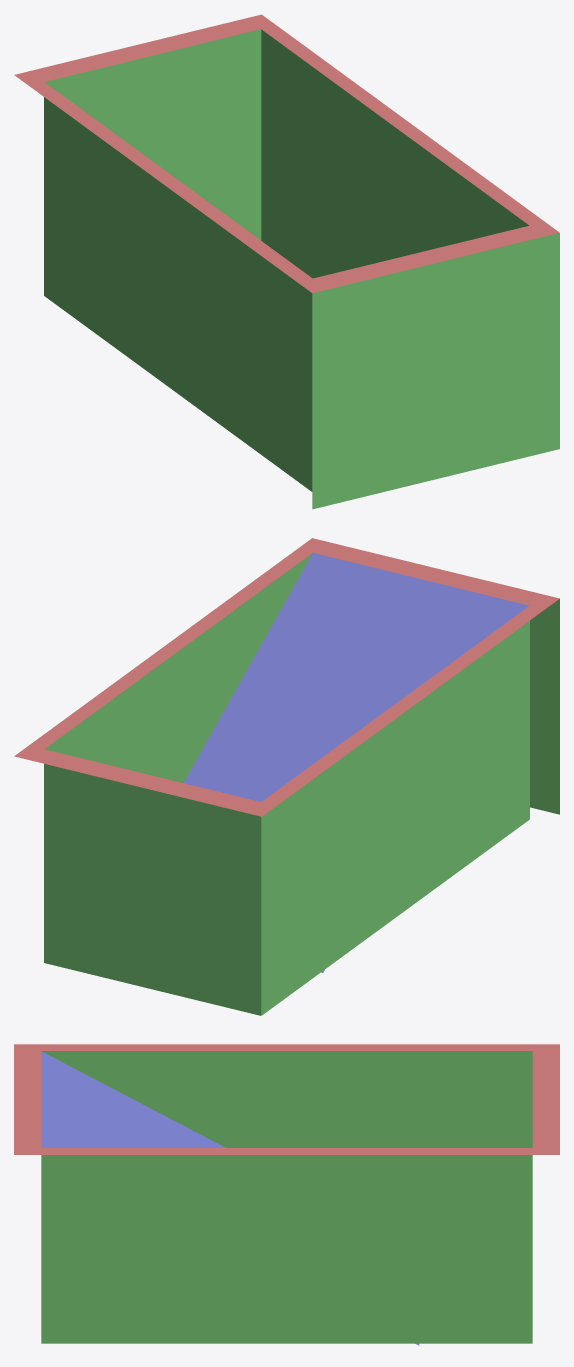
The model's file is dice_box.glb.
3 renders of one model, top to bottom at view 1: azimuth 30°, elevation 25°; view 2: azimuth 150°, elevation 25°; view 3: azimuth 270°, elevation 25°, orthographic. The views are drawn at different scales.
Parts seen in each view (by area): view 1: DiceBox-col; view 2: DiceBox-col, BoxSlope-col; view 3: DiceBox-col, BoxSlope-col.
Boxes of the visible parts, bbox=[...] form: DiceBox-col: bbox=[14, 14, 559, 509]; DiceBox-col: bbox=[14, 538, 559, 1015]; BoxSlope-col: bbox=[183, 553, 528, 972]; DiceBox-col: bbox=[14, 1044, 559, 1343]; BoxSlope-col: bbox=[41, 1051, 419, 1345].
Bounding box in the file's own units: 4.8 × 4 × 10.
